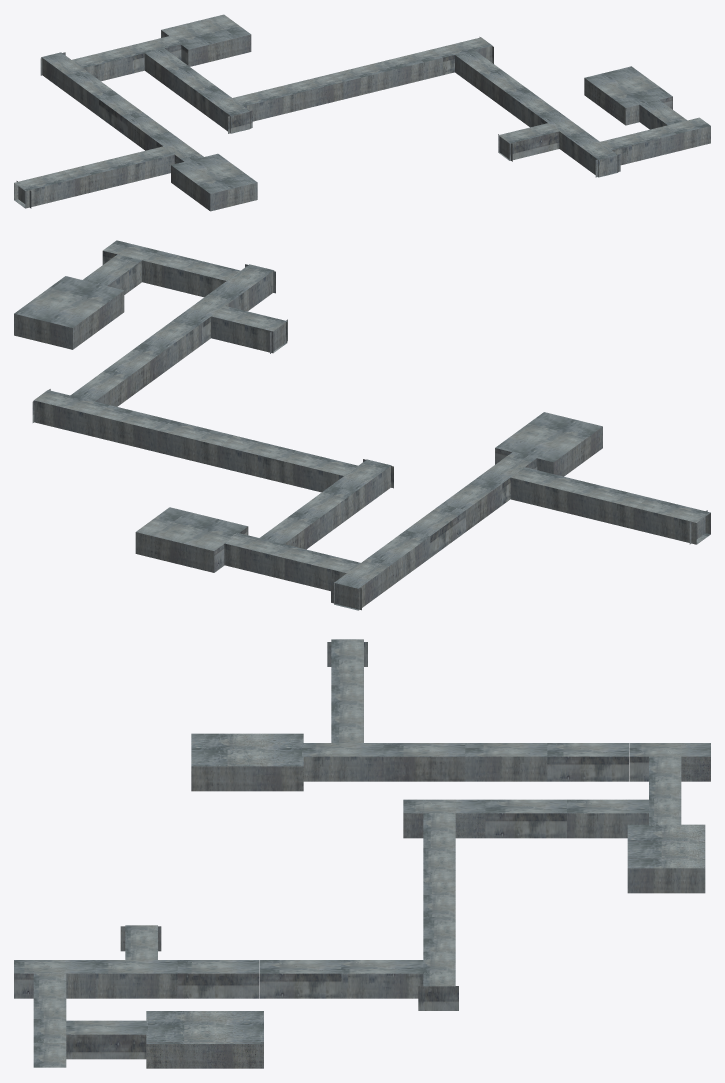
File: tunel4.fbx
3 renders of one model, top to bottom at view 1: azimuth 30°, elevation 25°; view 2: azimuth 150°, elevation 25°; view 3: azimuth 270°, elevation 25°, orthographic. The views are drawn at different scales.
Parts seen in each view (by area): view 1: Empty_Mesh; view 2: Empty_Mesh; view 3: Empty_Mesh.
Part boxes in pixels (<box>): Empty_Mesh: <box>14,14,710,211</box>; Empty_Mesh: <box>14,240,710,610</box>; Empty_Mesh: <box>14,639,710,1068</box>.
Size of the model in its own units: 6788 by 195 by 4940.
